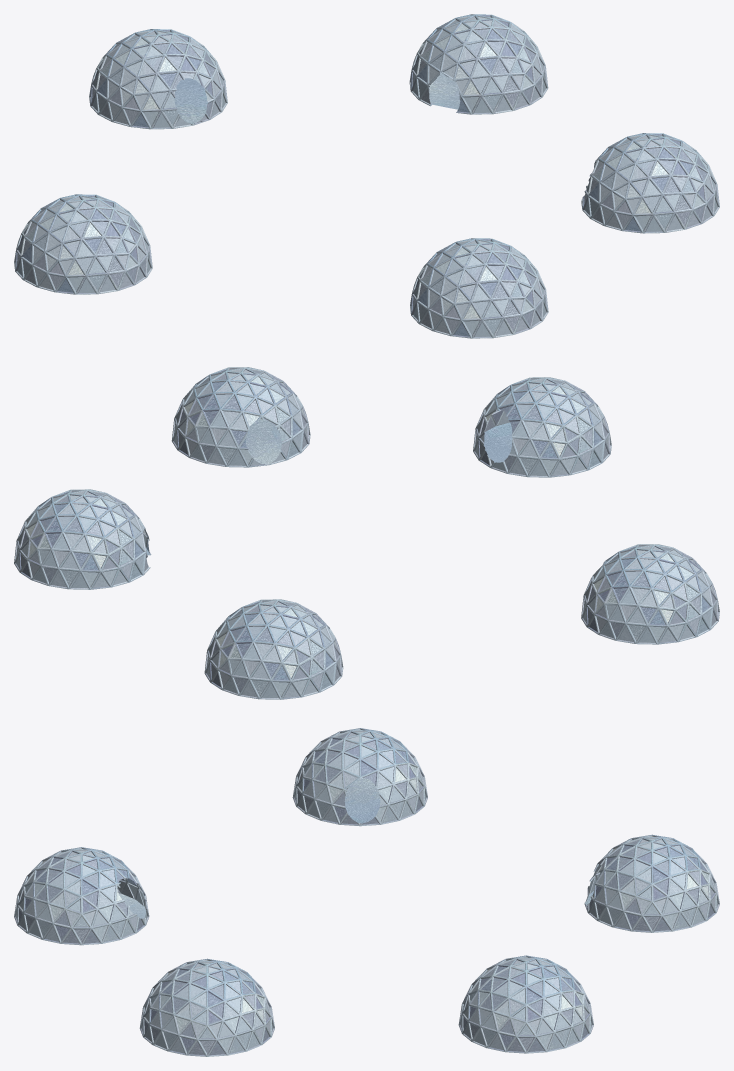
Rendered from domos2.obj.
The picture shows the model from 3 angles, top to bottom: view 1: azimuth 30°, elevation 25°; view 2: azimuth 150°, elevation 25°; view 3: azimuth 270°, elevation 25°; orthographic projection. The views are drawn at different scales.
Visible parts, largest first — view 1: domos2:polySurface2; view 2: domos2:polySurface2; view 3: domos2:polySurface2.
Boxes of the visible parts, x1=… form: domos2:polySurface2: x1=14, y1=14, x2=719, y2=338; domos2:polySurface2: x1=14, y1=367, x2=719, y2=699; domos2:polySurface2: x1=14, y1=728, x2=719, y2=1056.
Bounding box in the file's own units: 191 × 19.7 × 198.
Materials: 2 (2 with a texture image).
